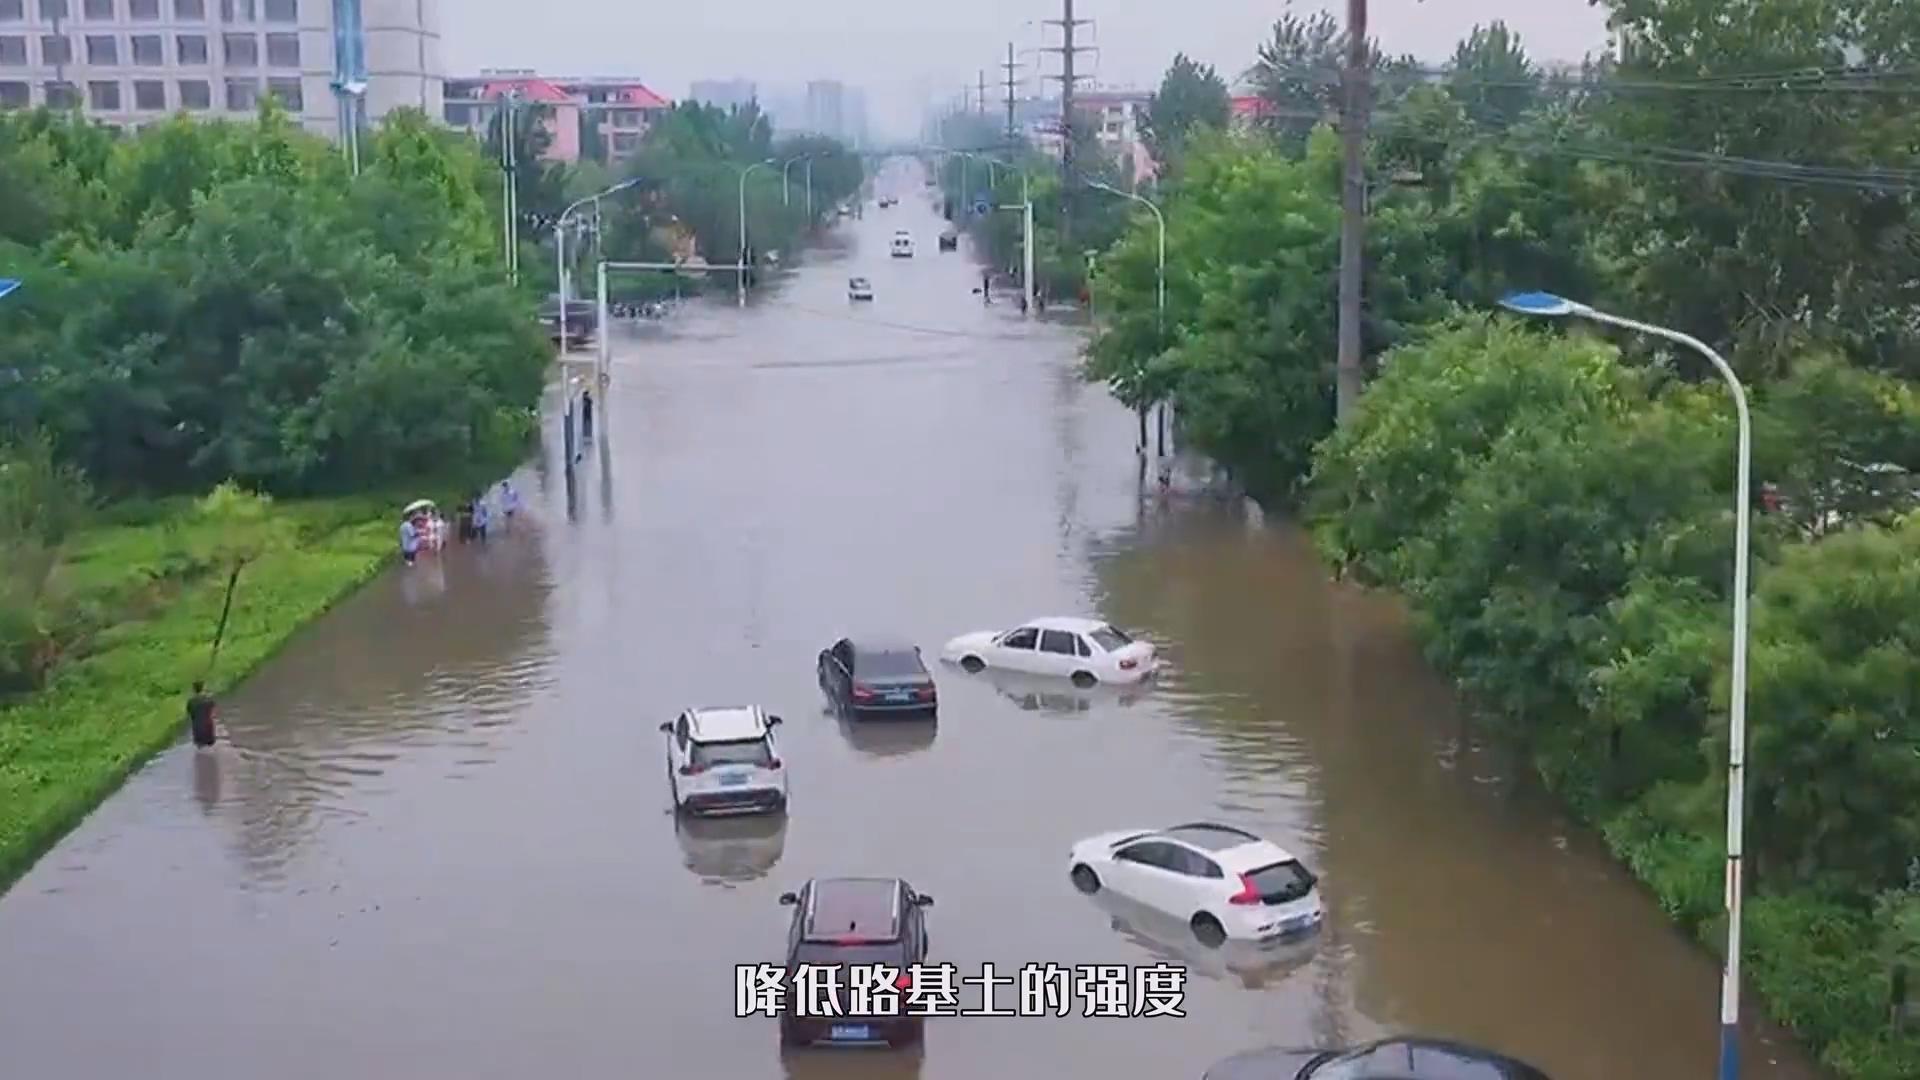puddle: (131, 396, 1540, 1063)
